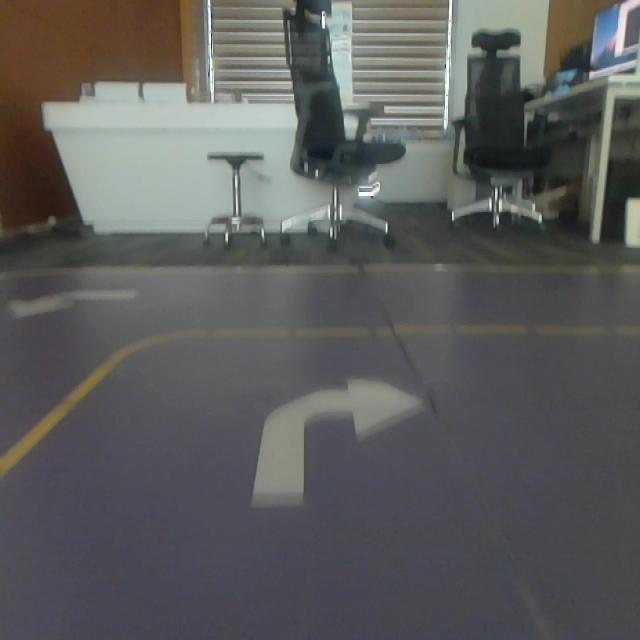right_lane: (0, 345, 140, 480)
